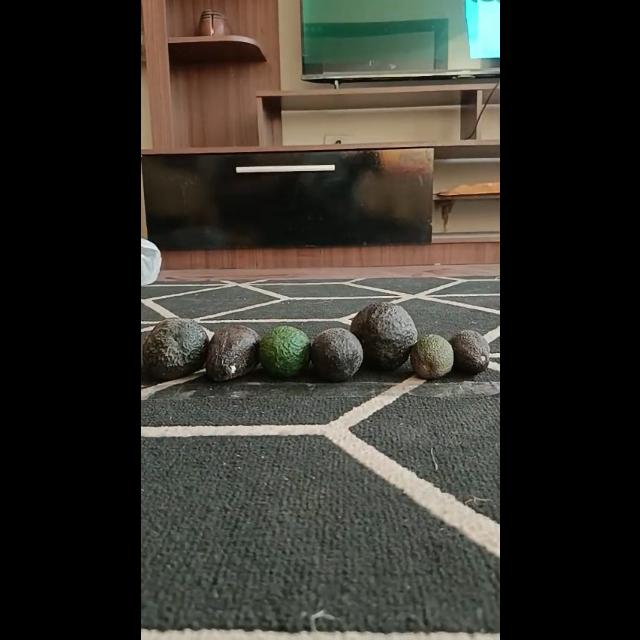Primera: (348, 300, 418, 370), (140, 318, 208, 380)
Segunda: (204, 324, 262, 381), (309, 328, 363, 382), (258, 324, 310, 378)
Tercera: (409, 333, 453, 379), (448, 330, 490, 374)
